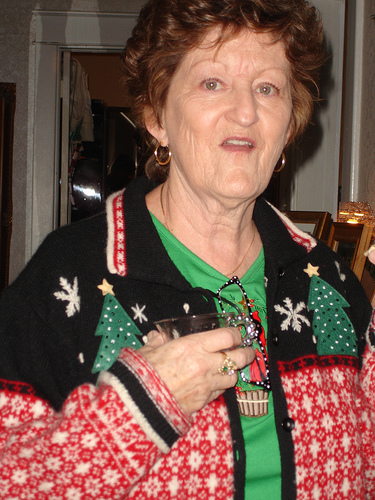without_mask: (155, 18, 303, 216)
